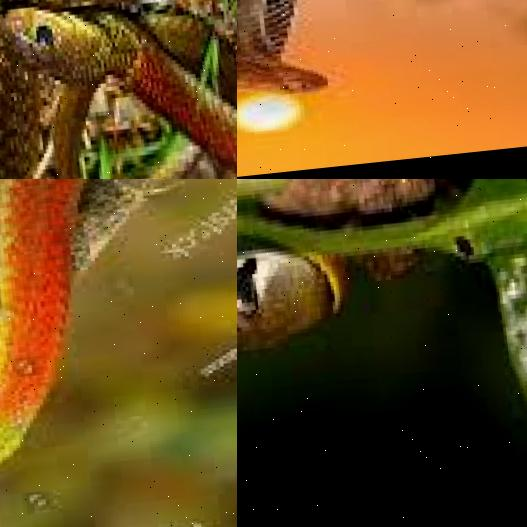snake: (0, 179, 237, 527), (237, 179, 527, 403), (0, 0, 237, 179), (237, 0, 451, 132)
